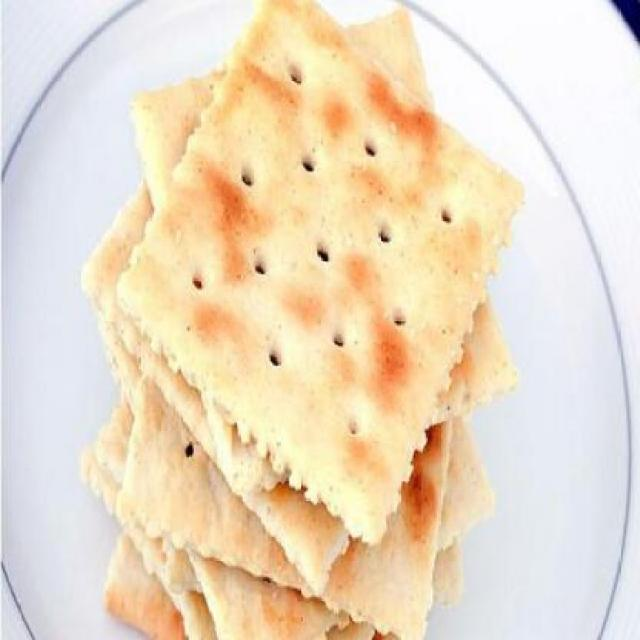Cracker packaged: (136, 2, 530, 530)
